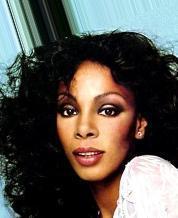face: (58, 93, 119, 165)
